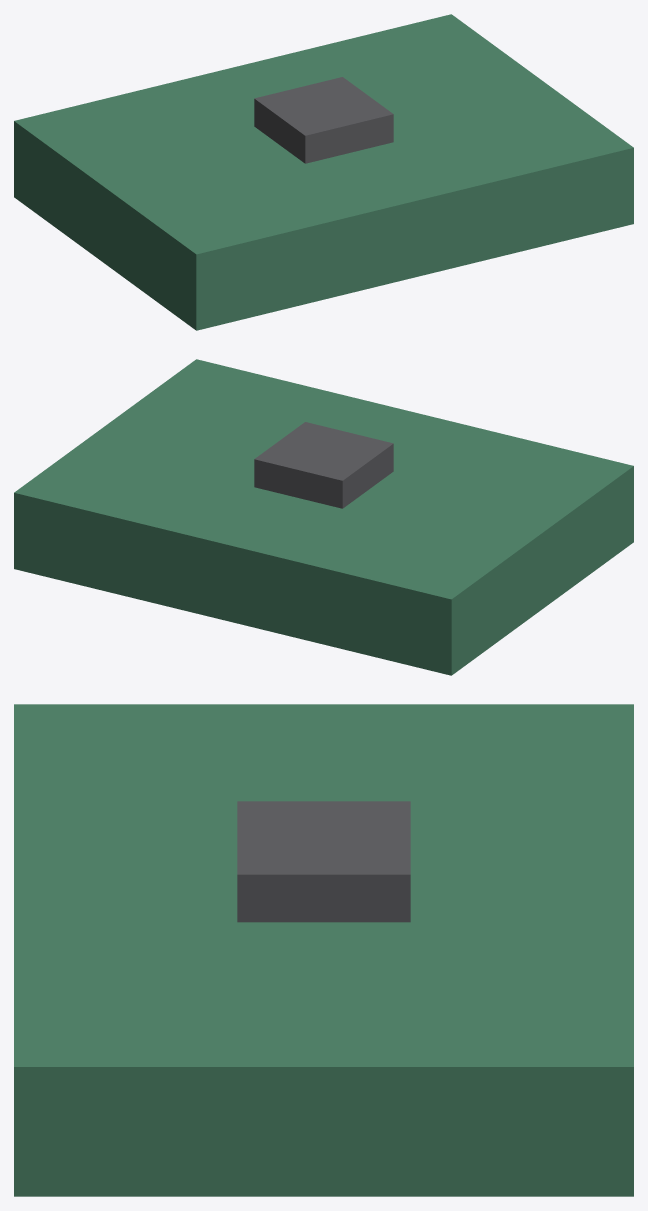
Rendered from inmp441.glb.
3 views of the same model, one above another, from view 1: azimuth 30°, elevation 25°; view 2: azimuth 150°, elevation 25°; view 3: azimuth 270°, elevation 25° (orthographic). The views are drawn at different scales.
Visible parts, largest first — view 1: inmp441-pcb, inmp441-ic; view 2: inmp441-pcb, inmp441-ic; view 3: inmp441-pcb, inmp441-ic.
Part boxes in pixels (<box>): inmp441-pcb: <box>14,14,633,330</box>; inmp441-ic: <box>254,77,393,163</box>; inmp441-pcb: <box>14,359,633,675</box>; inmp441-ic: <box>254,422,393,508</box>; inmp441-pcb: <box>14,704,633,1196</box>; inmp441-ic: <box>237,801,410,922</box>.
Size of the model in its own units: 0.018 by 0.0041 by 0.013.
